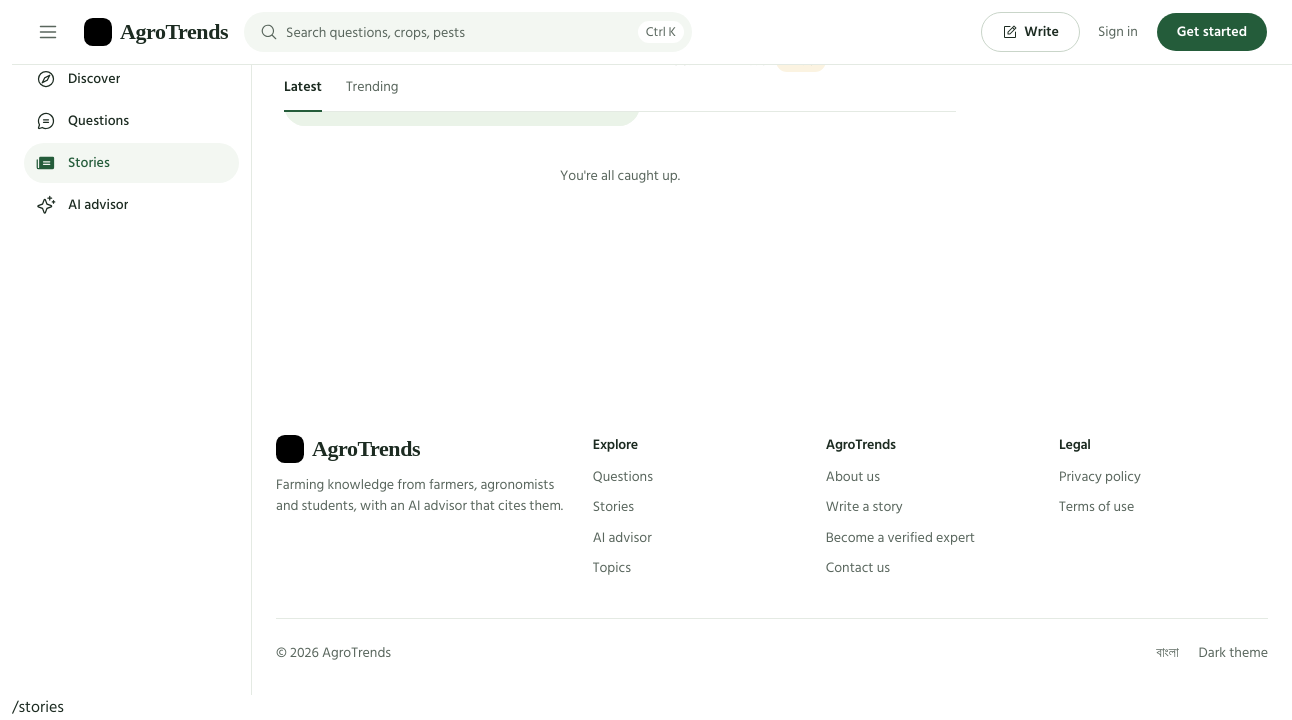
Test: switching to Bengali changes the interface and asks the API in Bengali
(page scrolled)
Click the button "বাংলা": [1167, 653] box left=1156, top=643, right=1179, bottom=664
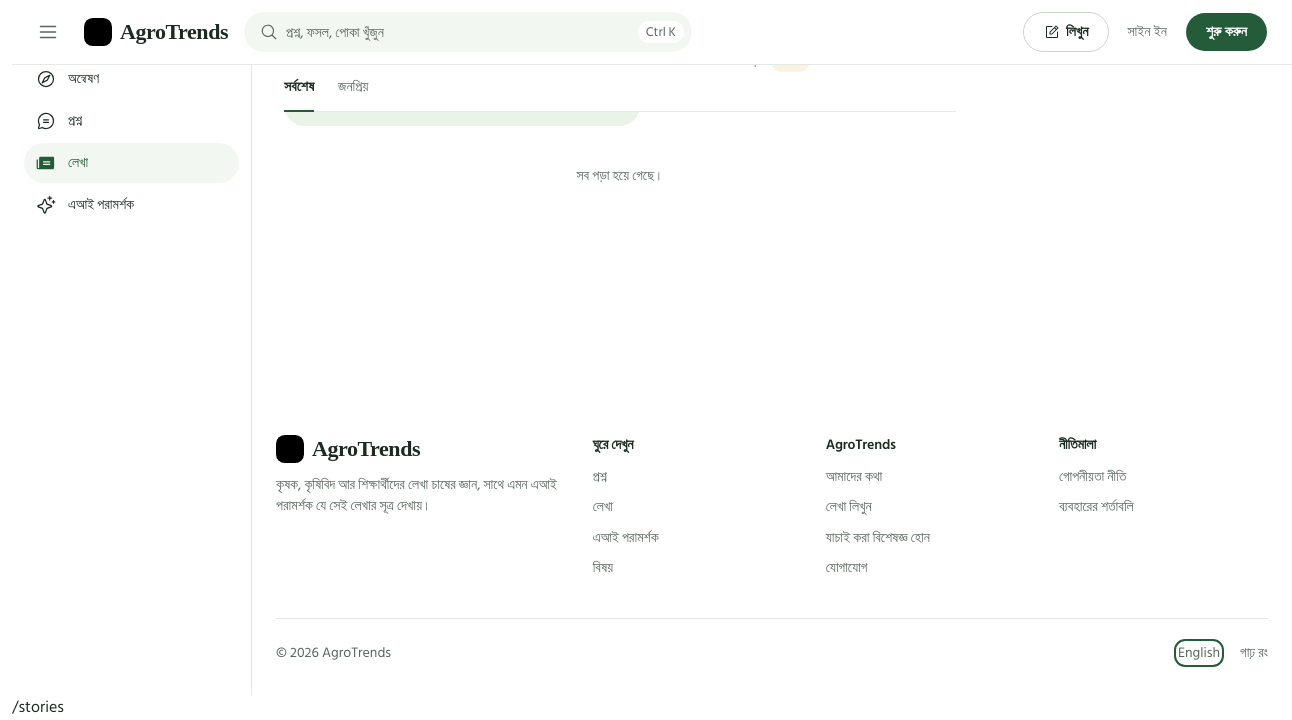
Expected: the text "৭ অক্টো · ৪ মিনিটে পড়া" is shown, left=672, top=52, right=763, bottom=70
Expected: the link "প্রশ্ন" below "অন্বেষণ" is shown, left=36, top=109, right=82, bottom=132
Expected: the button "English" is shown, left=1178, top=643, right=1220, bottom=664
